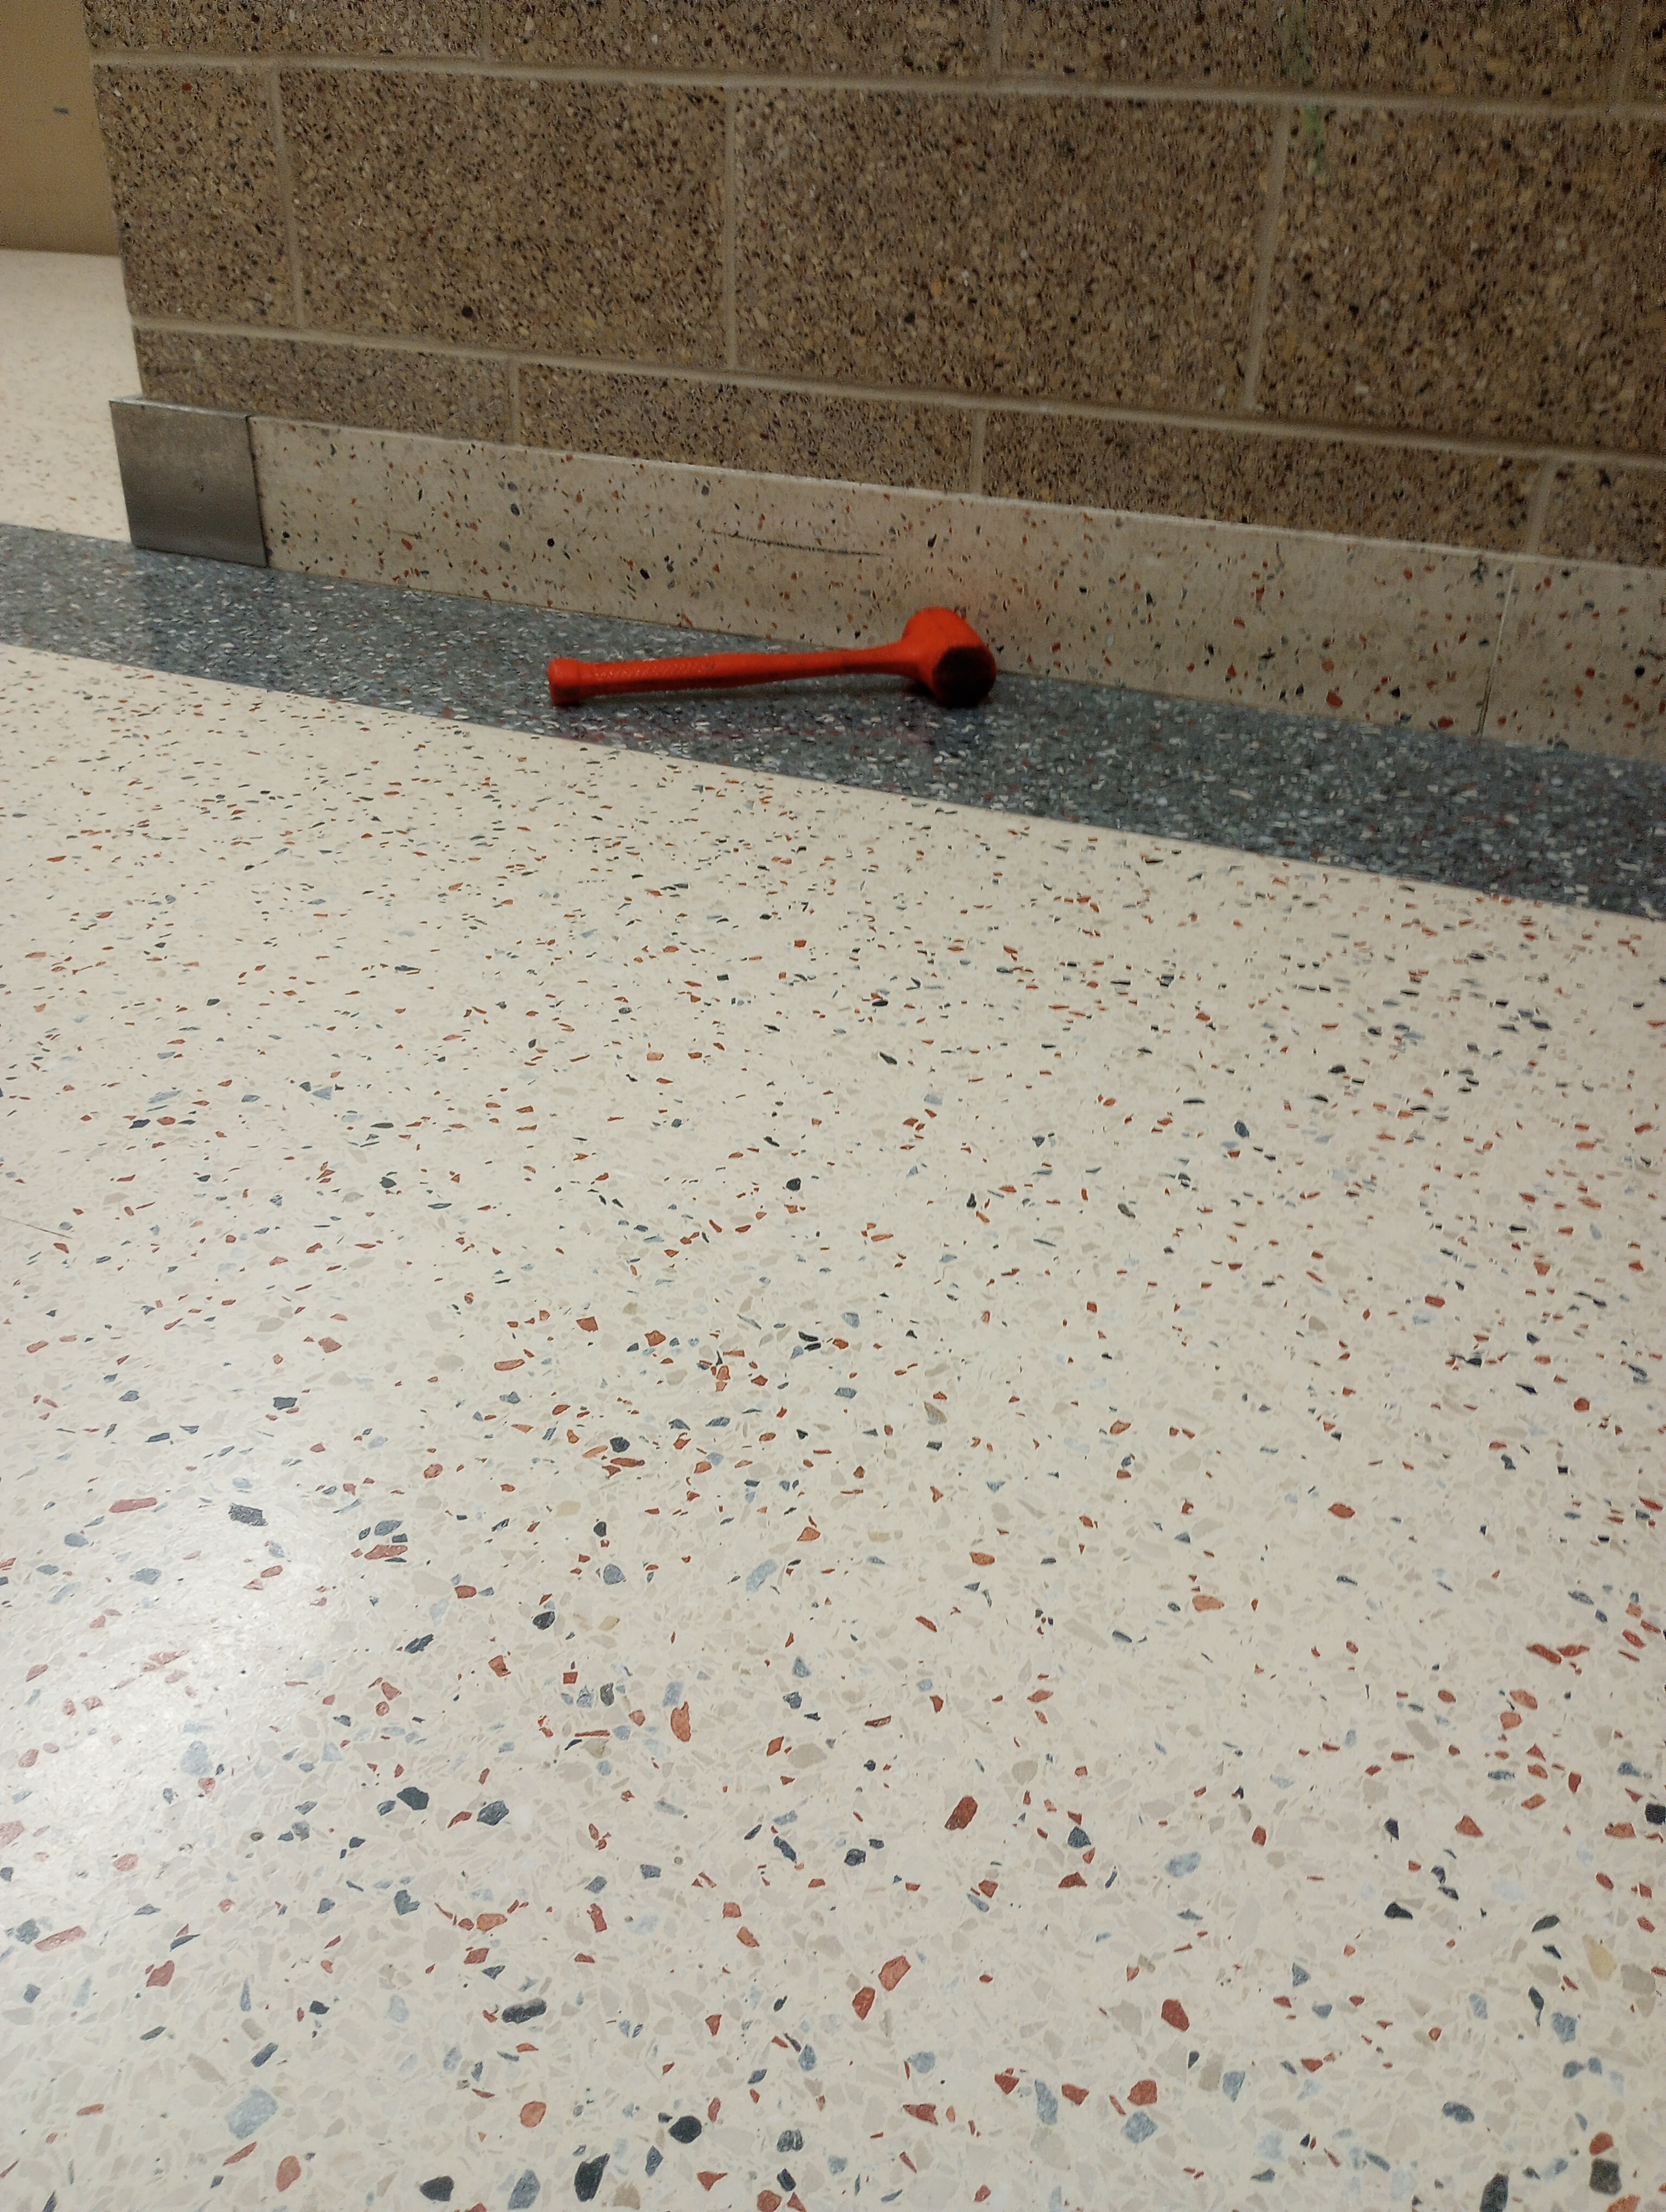bottle: (542, 595, 998, 722)
